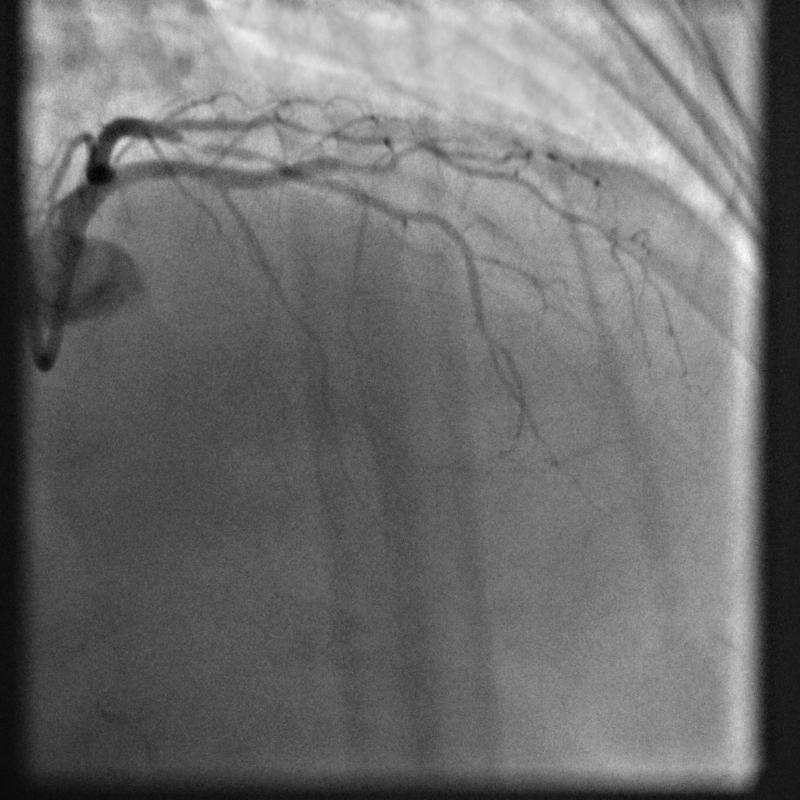Stenosis: (166, 126, 239, 156)
